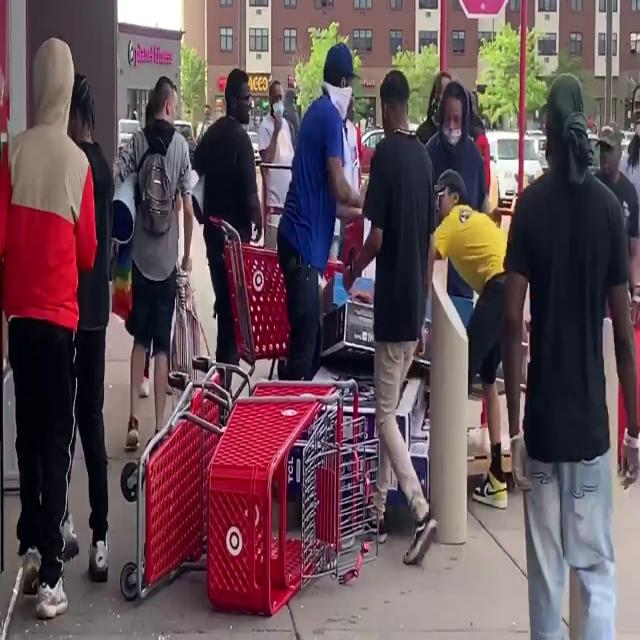human: (502, 70, 638, 631), (3, 34, 99, 621), (348, 66, 436, 562), (119, 76, 195, 456), (424, 175, 510, 507), (282, 26, 350, 385), (191, 67, 262, 405), (593, 126, 640, 483), (424, 79, 486, 304), (259, 80, 297, 248), (339, 90, 363, 254), (414, 70, 448, 148), (468, 96, 491, 202), (618, 125, 640, 221), (282, 88, 300, 149), (198, 104, 214, 140)
loitering: (179, 93, 223, 319)
